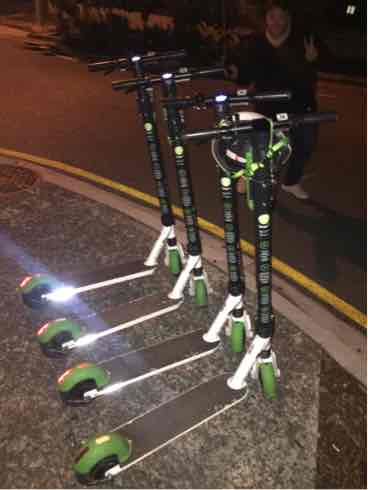too close: (140, 228, 216, 286)
